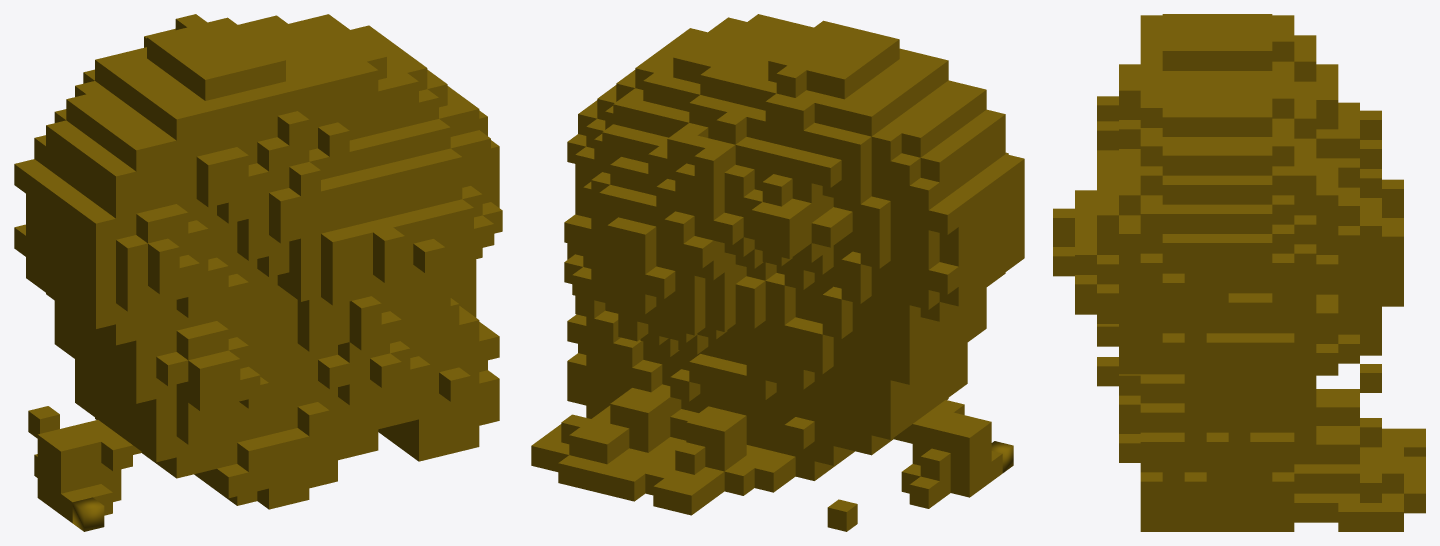
File: Boulder1.fbx
The picture shows the model from 3 angles, left to right: view 1: azimuth 30°, elevation 25°; view 2: azimuth 150°, elevation 25°; view 3: azimuth 270°, elevation 25°; orthographic projection. The views are drawn at different scales.
Parts seen in each view (by area): view 1: Boulder1:cube_504, Boulder1:cube_591, Boulder1:cube_1, Boulder1:cube_74, Boulder1:cube_291, Boulder1:cube_977, Boulder1:cube_127, Boulder1:cube_159, Boulder1:cube_369, Boulder1:cube_624, Boulder1:cube_213, Boulder1:cube_7 (+111 smaller); view 2: Boulder1:cube_710, Boulder1:cube_387, Boulder1:cube_454, Boulder1:cube_751, Boulder1:cube_1013, Boulder1:cube_126, Boulder1:cube_133, Boulder1:cube_190, Boulder1:cube_247, Boulder1:cube_284, Boulder1:cube_294, Boulder1:cube_355 (+119 smaller); view 3: Boulder1:cube_514, Boulder1:cube_846, Boulder1:cube_853, Boulder1:cube_1096, Boulder1:cube_1097, Boulder1:cube_1156, Boulder1:cube_1157, Boulder1:cube_1158, Boulder1:cube_1159, Boulder1:cube_1160, Boulder1:cube_1218, Boulder1:cube_1246 (+188 smaller).
Boxes of the visible parts, bbox=[...] form: Boulder1:cube_504: bbox=[257, 137, 289, 171]; Boulder1:cube_591: bbox=[277, 111, 309, 145]; Boulder1:cube_1: bbox=[72, 497, 104, 531]; Boulder1:cube_74: bbox=[104, 163, 136, 197]; Boulder1:cube_291: bbox=[196, 152, 228, 186]; Boulder1:cube_977: bbox=[413, 239, 445, 273]; Boulder1:cube_127: bbox=[124, 137, 156, 171]; Boulder1:cube_159: bbox=[156, 352, 188, 386]; Boulder1:cube_369: bbox=[193, 66, 225, 100]; Boulder1:cube_624: bbox=[297, 402, 329, 436]; Boulder1:cube_213: bbox=[176, 326, 208, 360]; Boulder1:cube_7: bbox=[49, 438, 80, 472]; Boulder1:cube_710: bbox=[675, 442, 705, 474]; Boulder1:cube_387: bbox=[784, 417, 814, 449]; Boulder1:cube_454: bbox=[754, 460, 784, 492]; Boulder1:cube_751: bbox=[664, 211, 694, 243]; Boulder1:cube_1013: bbox=[588, 432, 618, 464]; Boulder1:cube_126: bbox=[890, 153, 920, 185]; Boulder1:cube_133: bbox=[827, 499, 857, 531]; Boulder1:cube_190: bbox=[871, 128, 901, 160]; Boulder1:cube_247: bbox=[852, 104, 882, 136]; Boulder1:cube_284: bbox=[811, 215, 841, 247]; Boulder1:cube_294: bbox=[811, 155, 841, 187]; Boulder1:cube_355: bbox=[770, 206, 800, 238]; Boulder1:cube_514: bbox=[1294, 52, 1316, 81]; Boulder1:cube_846: bbox=[1294, 109, 1316, 138]; Boulder1:cube_853: bbox=[1272, 89, 1294, 118]; Boulder1:cube_1096: bbox=[1294, 464, 1316, 493]; Boulder1:cube_1097: bbox=[1316, 464, 1338, 493]; Boulder1:cube_1156: bbox=[1162, 146, 1184, 175]; Boulder1:cube_1157: bbox=[1184, 146, 1206, 175]; Boulder1:cube_1158: bbox=[1206, 146, 1228, 175]; Boulder1:cube_1159: bbox=[1228, 146, 1250, 175]; Boulder1:cube_1160: bbox=[1250, 146, 1272, 175]; Boulder1:cube_1218: bbox=[1272, 195, 1294, 224]; Boulder1:cube_1246: bbox=[1140, 403, 1162, 432].
Size of the model in its own units: 20 by 20 by 17.
